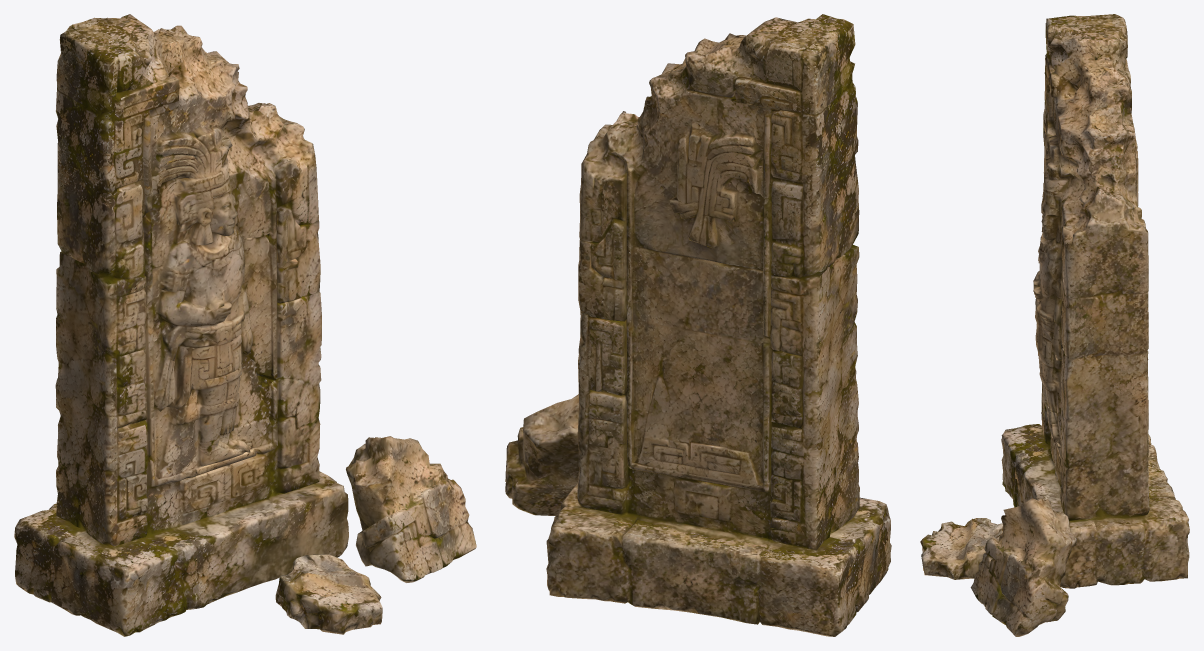
Rendered from ARQ_EstelaFragmentada_01_LOD0.fbx.
3 views of the same model, side by side, from view 1: azimuth 30°, elevation 25°; view 2: azimuth 150°, elevation 25°; view 3: azimuth 270°, elevation 25° (orthographic). The views are drawn at different scales.
Visible parts, largest first — view 1: ARQ_EstelaFragmentada_01_Mesh000; view 2: ARQ_EstelaFragmentada_01_Mesh000; view 3: ARQ_EstelaFragmentada_01_Mesh000.
Boxes of the visible parts, x1,y1,x2,y2 form: ARQ_EstelaFragmentada_01_Mesh000: [14, 14, 476, 636]; ARQ_EstelaFragmentada_01_Mesh000: [505, 14, 891, 636]; ARQ_EstelaFragmentada_01_Mesh000: [920, 14, 1189, 636].
Size of the model in its own units: 1.96 by 2.7 by 1.38.
